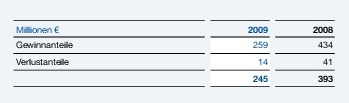table: (0, 0, 349, 103)
